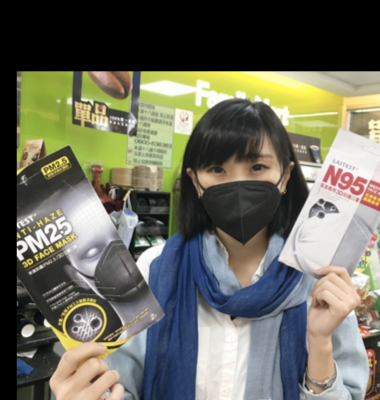with_mask: (195, 152, 283, 244)
